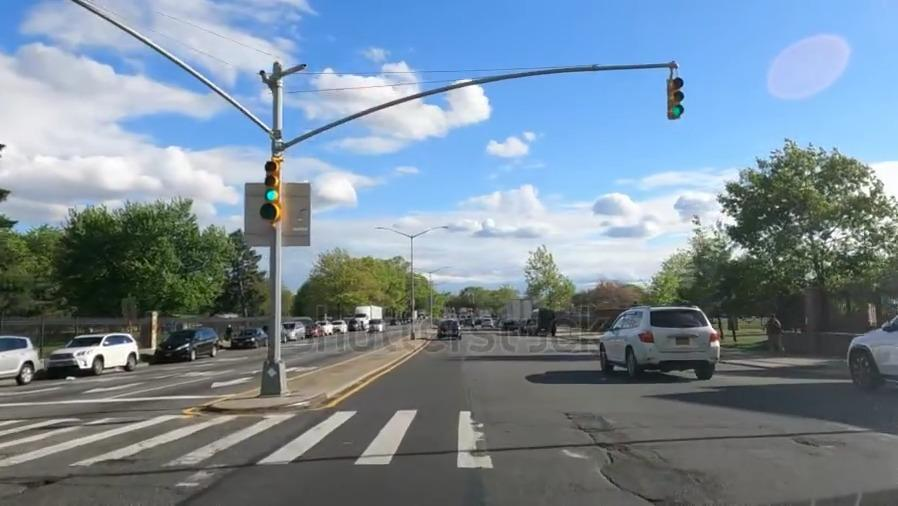car: (597, 311, 723, 387), (830, 306, 898, 389), (51, 332, 138, 375), (150, 327, 213, 363), (0, 329, 37, 379), (235, 327, 265, 349), (439, 315, 459, 342), (288, 320, 305, 341)
pedestrian: (0, 392, 897, 475)
person: (767, 313, 788, 351), (226, 325, 235, 338)
pothole: (794, 427, 843, 455)
road damage: (601, 438, 684, 506), (568, 406, 620, 450)
traffic light: (261, 155, 287, 228), (655, 71, 689, 118)
wheel: (848, 347, 882, 387)
